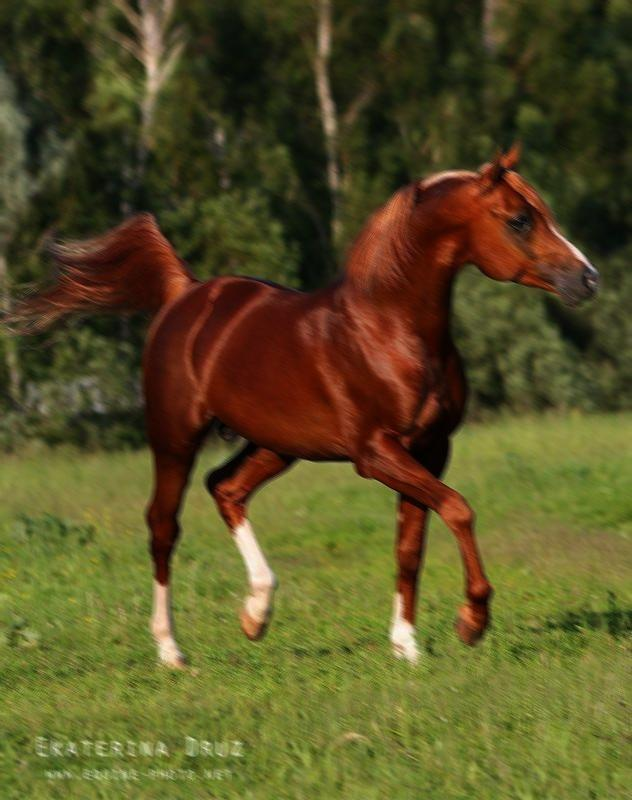horse: (0, 137, 600, 672)
